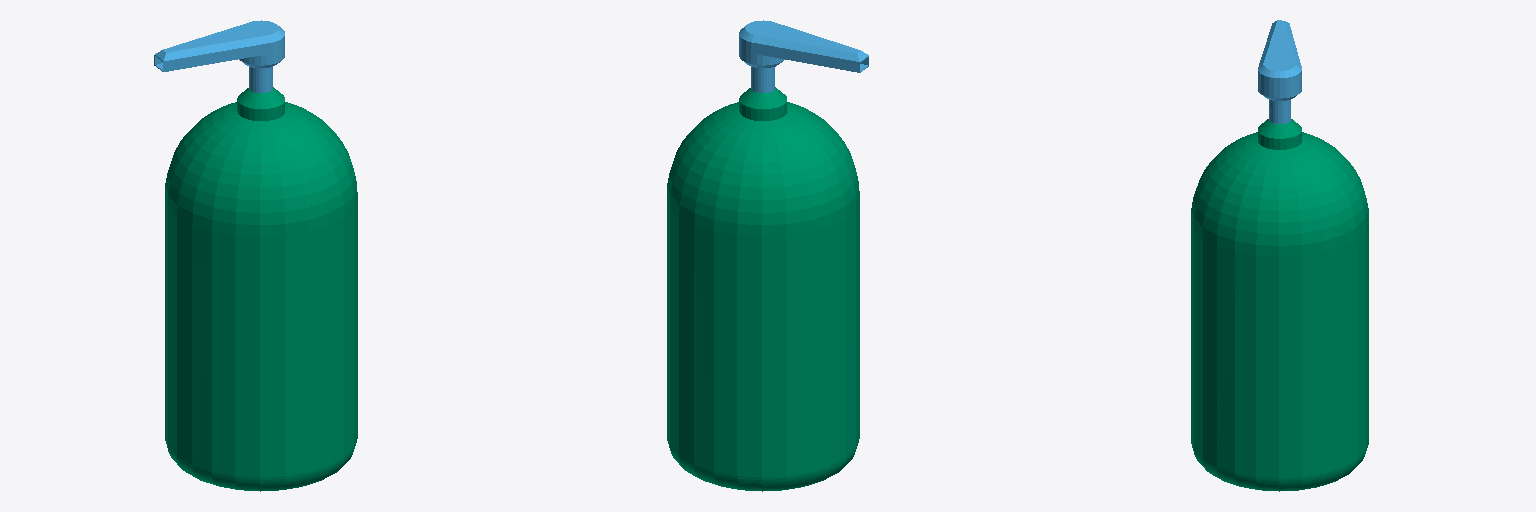
The robot description file, URDF, robot "partnet_5ca994bd512be485db3bac7ad77ae88e":
<?xml version="1.0" ?>
<robot name="partnet_5ca994bd512be485db3bac7ad77ae88e">
	<link name="base"/>
	<link name="link_0">
		<visual name="pressing_lid-4">
			<origin xyz="0.008755063991076967 0 0.01370572210229435"/>
			<geometry>
				<mesh filename="textured_objs/original_2.obj"/>
			</geometry>
		</visual>
		<visual name="pressing_lid-4">
			<origin xyz="0.008755063991076967 0 0.01370572210229435"/>
			<geometry>
				<mesh filename="textured_objs/original_3.obj"/>
			</geometry>
		</visual>
		<visual name="pressing_lid-4">
			<origin xyz="0.008755063991076967 0 0.01370572210229435"/>
			<geometry>
				<mesh filename="textured_objs/original_4.obj"/>
			</geometry>
		</visual>
		<collision>
			<origin xyz="0.008755063991076967 0 0.01370572210229435"/>
			<geometry>
				<mesh filename="textured_objs/original_2.obj"/>
			</geometry>
		</collision>
		<collision>
			<origin xyz="0.008755063991076967 0 0.01370572210229435"/>
			<geometry>
				<mesh filename="textured_objs/original_3.obj"/>
			</geometry>
		</collision>
		<collision>
			<origin xyz="0.008755063991076967 0 0.01370572210229435"/>
			<geometry>
				<mesh filename="textured_objs/original_4.obj"/>
			</geometry>
		</collision>
	</link>
	<joint name="joint_0" type="continuous">
		<origin xyz="0.0 0 0.0"/>
		<axis xyz="0 1 0"/>
		<child link="link_0"/>
		<parent link="link_0_helper"/>
	</joint>
	<link name="link_1">
		<visual name="base_body-5">
			<origin xyz="0 0 0"/>
			<geometry>
				<mesh filename="textured_objs/original_1.obj"/>
			</geometry>
		</visual>
		<collision>
			<origin xyz="0 0 0"/>
			<geometry>
				<mesh filename="textured_objs/original_1.obj"/>
			</geometry>
		</collision>
	</link>
	<joint name="joint_1" type="fixed">
		<origin rpy="1.570796326794897 0 -1.570796326794897" xyz="0 0 0"/>
		<child link="link_1"/>
		<parent link="base"/>
	</joint>
	<link name="link_0_helper">
		<inertial>
			<origin xyz="0 0 0"/>
			<mass value="1e-6"/>
			<inertia ixx="1e-10" ixy="0" ixz="0" iyy="1e-10" iyz="0" izz="1e-10"/>
		</inertial>
	</link>
	<joint name="joint_2" type="prismatic">
		<origin xyz="-0.008755063991076967 0 -0.01370572210229435"/>
		<axis xyz="0 -1 0"/>
		<child link="link_0_helper"/>
		<parent link="link_1"/>
		<limit lower="0" upper="0.0960000000000001"/>
	</joint>
</robot>

--- What the picture shows (computed from the rendered views, not written in the file) ---
The picture shows the robot from 3 angles, left to right: view 1: azimuth 30°, elevation 25°; view 2: azimuth 150°, elevation 25°; view 3: azimuth 270°, elevation 25°; orthographic projection.
Robot: partnet_5ca994bd512be485db3bac7ad77ae88e — 4 links, 3 joints (1 continuous, 1 prismatic, 1 fixed); root link base; default pose: every joint at zero.
Links seen in each view (by area): view 1: link_1, link_0; view 2: link_1, link_0; view 3: link_1, link_0.
Boxes of the visible links, x1,y1,x2,y2 form: link_1: (165, 87, 357, 491); link_0: (154, 20, 284, 92); link_1: (667, 87, 859, 491); link_0: (739, 20, 868, 92); link_1: (1191, 119, 1368, 491); link_0: (1258, 20, 1301, 123).
Bounding box of the posed robot: 0.7695 × 0.6936 × 1.71 m (x, y, z).
4 mesh visuals loaded from 4 distinct referenced files (4 OBJ).
